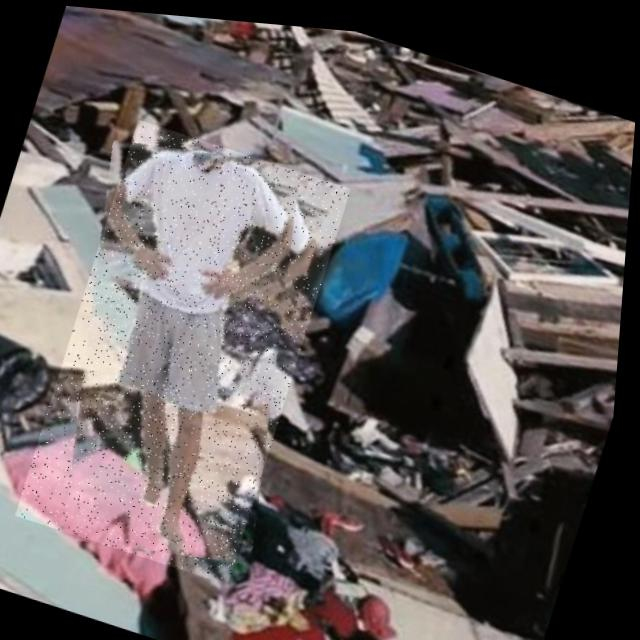Person in Rubble: (19, 110, 355, 586)
